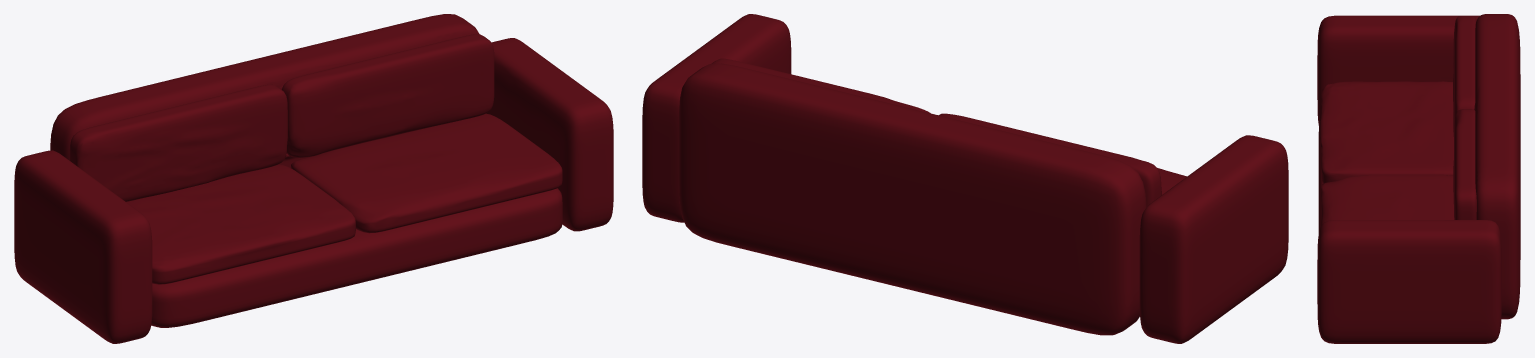
File: low_poly_sofa.glb
The picture shows the model from 3 angles, left to right: view 1: azimuth 30°, elevation 25°; view 2: azimuth 150°, elevation 25°; view 3: azimuth 270°, elevation 25°; orthographic projection. The views are drawn at different scales.
Parts seen in each view (by area): view 1: Cube; view 2: Cube; view 3: Cube.
Boxes of the visible parts, bbox=[...] form: Cube: bbox=[14, 14, 613, 343]; Cube: bbox=[642, 14, 1288, 343]; Cube: bbox=[1317, 14, 1520, 343].
Size of the model in its own units: 6.09 by 1.77 by 2.33.
